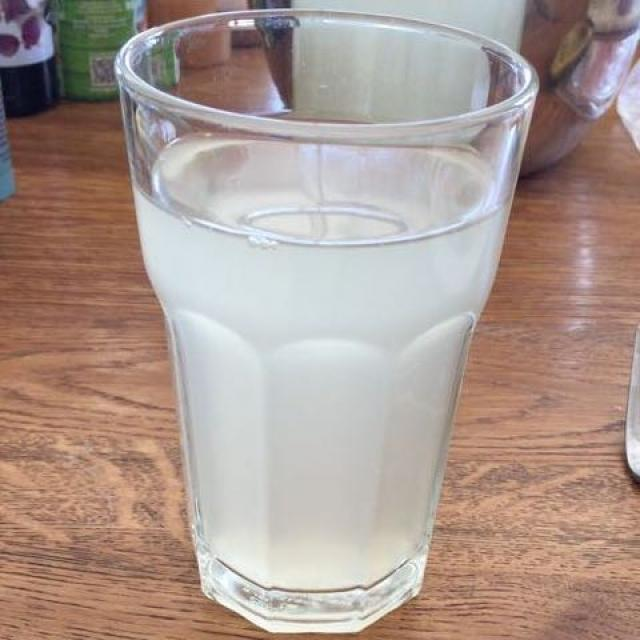drink: (137, 91, 506, 595)
